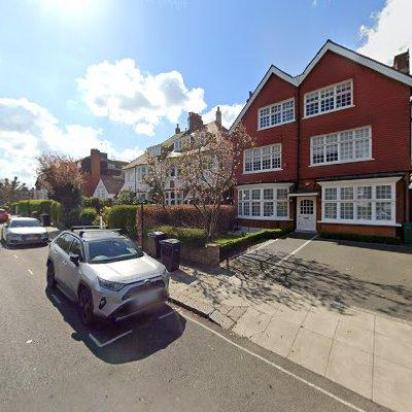stationary-car-onstreet: (45, 227, 169, 333), (1, 216, 51, 248), (0, 208, 10, 224)
